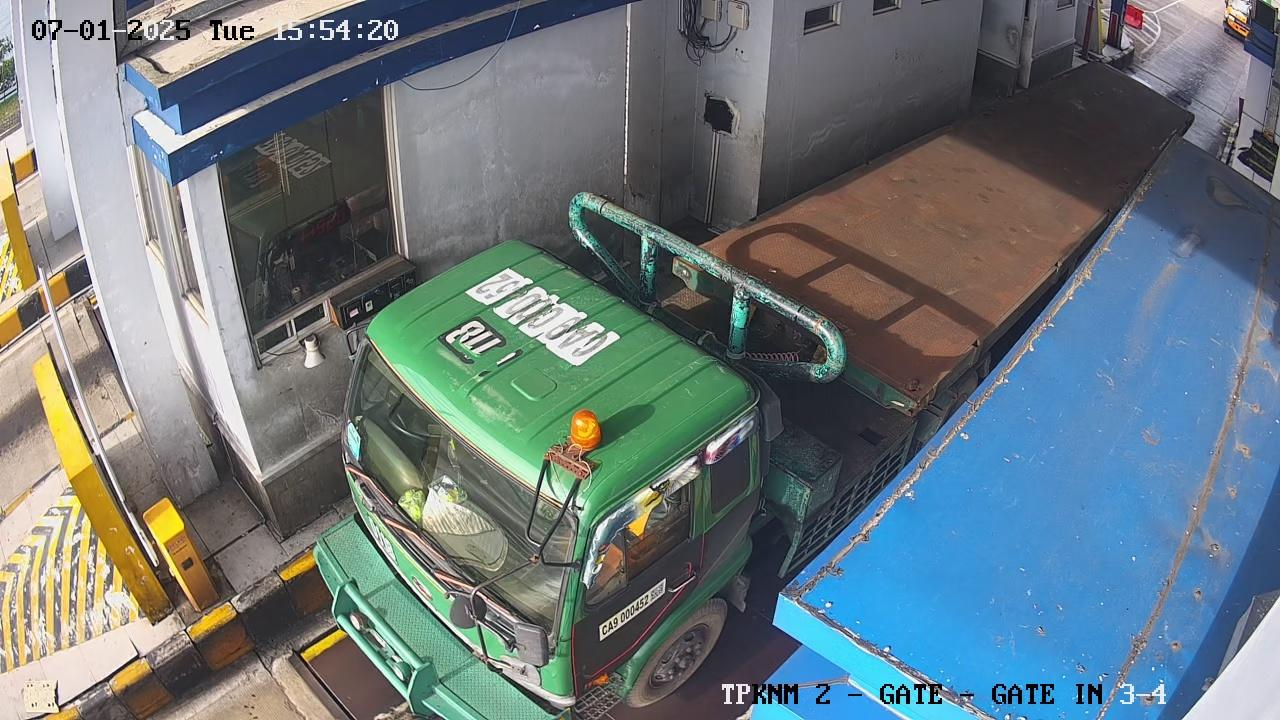truck_id: (427, 261, 629, 405), (591, 576, 673, 642)
